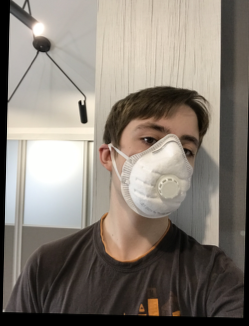with_mask: (118, 118, 199, 218)
